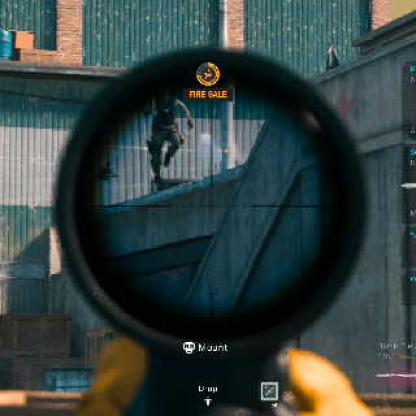enemy: (146, 100, 191, 186)
